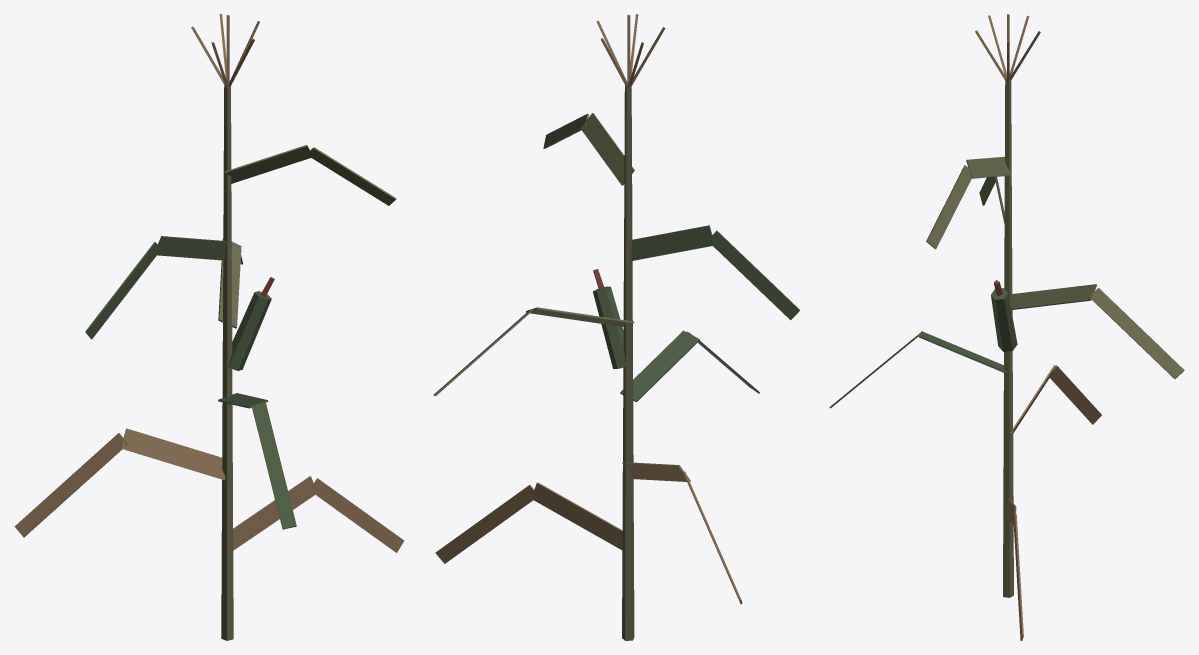
Rendered from porumb.glb.
3 renders of one model, left to right at view 1: azimuth 30°, elevation 25°; view 2: azimuth 150°, elevation 25°; view 3: azimuth 270°, elevation 25°, orthographic. The views are drawn at different scales.
Parts seen in each view (by area): view 1: Porumb; view 2: Porumb; view 3: Porumb.
Part boxes in pixels (x1,y1,x2,y2): Porumb: (14, 14, 404, 640); Porumb: (433, 14, 800, 640); Porumb: (829, 14, 1184, 640).
Size of the model in its own units: 1.34 by 2.3 by 1.27.
